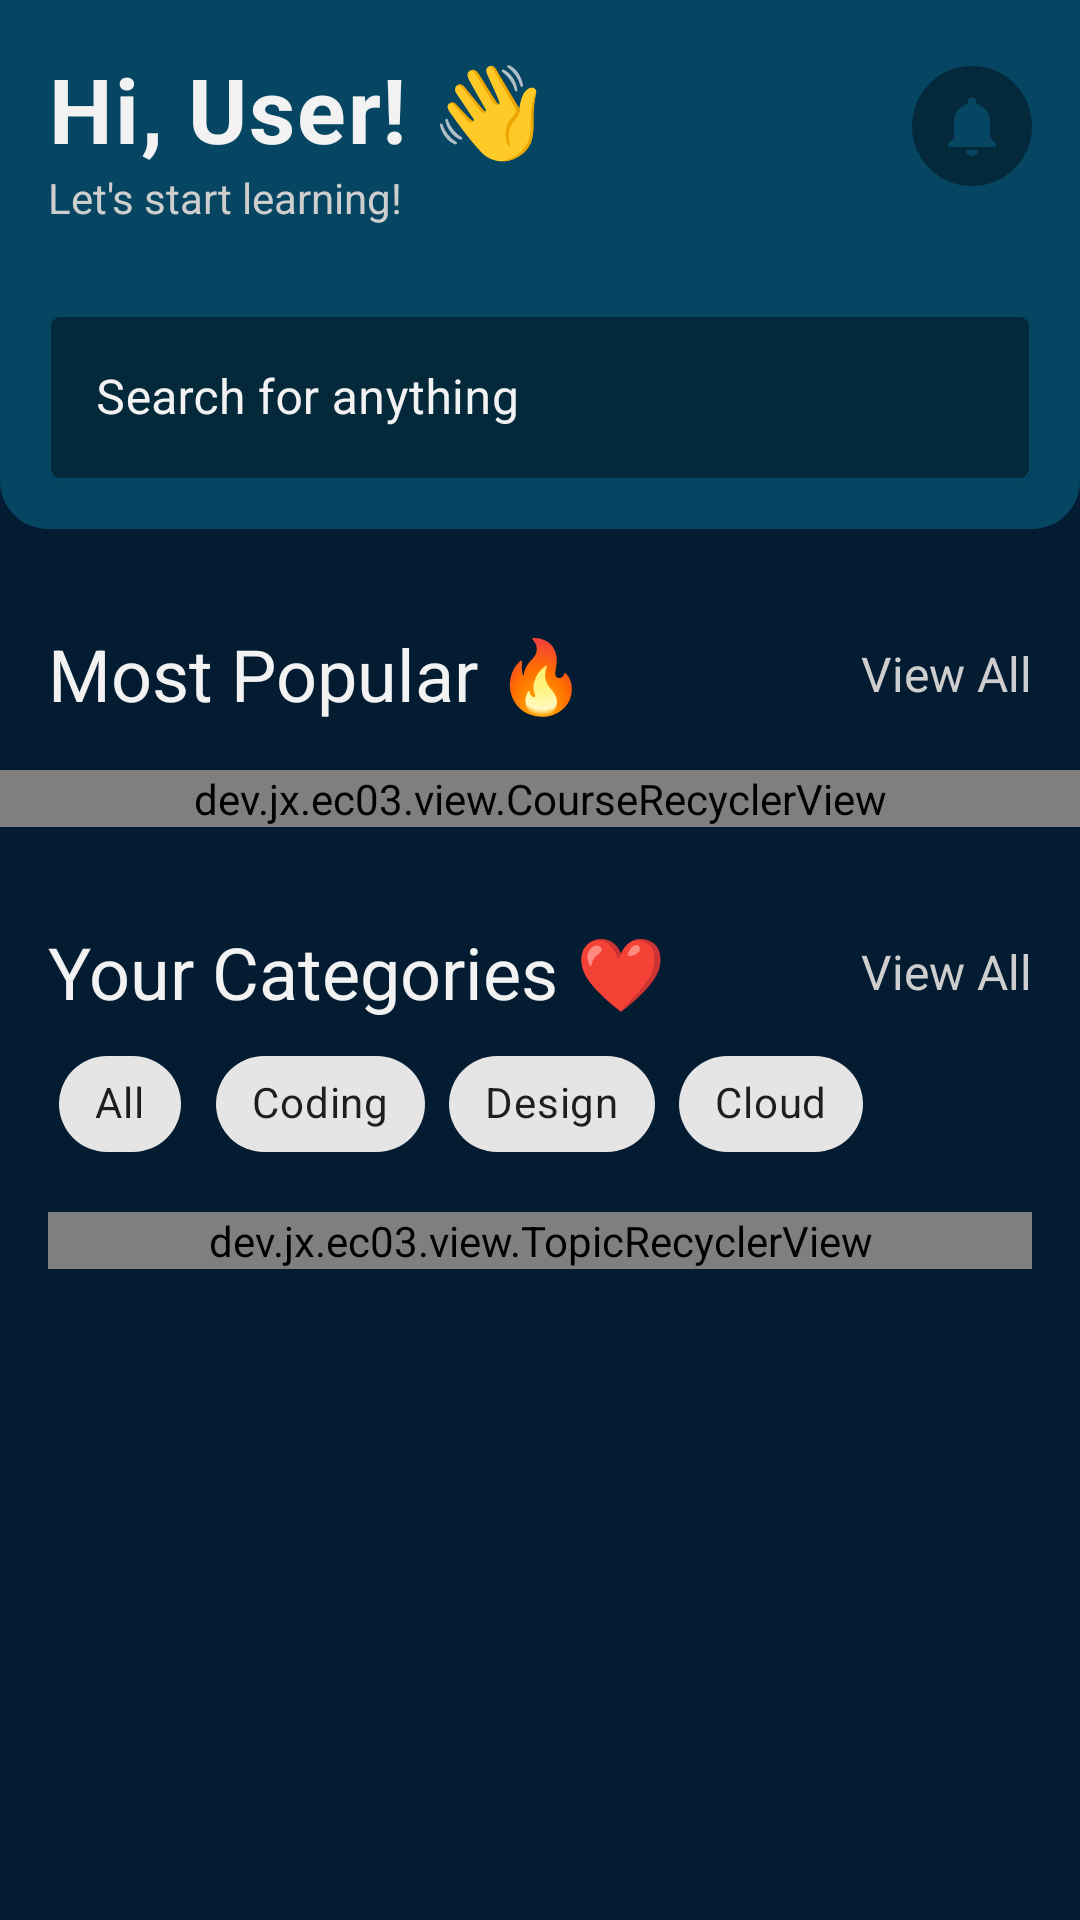

Point at icon controls on the screen. Image size 1080px x 1920px, points as [x,y].
notifications: [972,126]
